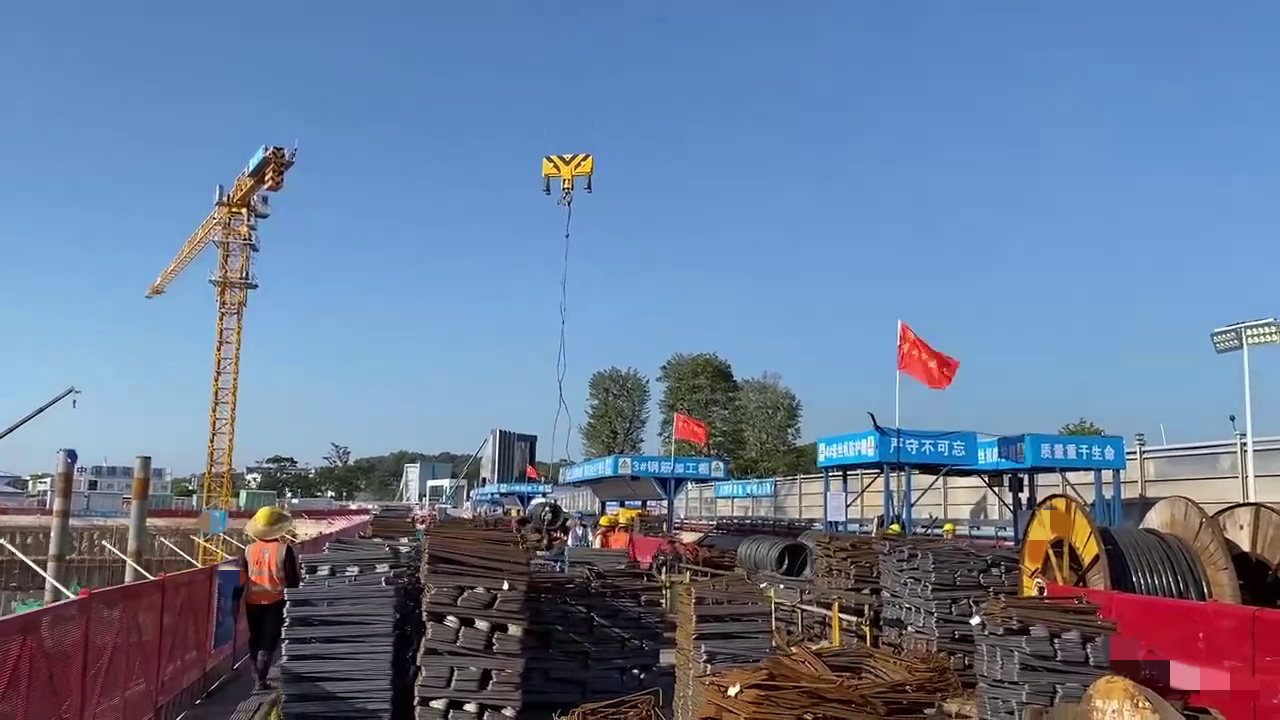fence: (3, 559, 236, 720)
helmet: (258, 507, 282, 524)
hook: (540, 152, 594, 188)
person: (240, 503, 295, 691), (593, 512, 611, 552), (614, 514, 630, 553)
rebar: (664, 577, 956, 720), (414, 508, 530, 720), (301, 537, 404, 720), (864, 527, 971, 666), (981, 601, 1100, 720), (820, 529, 896, 642)
slogan: (1027, 438, 1124, 466), (884, 434, 976, 463)
vest: (246, 541, 288, 608)
